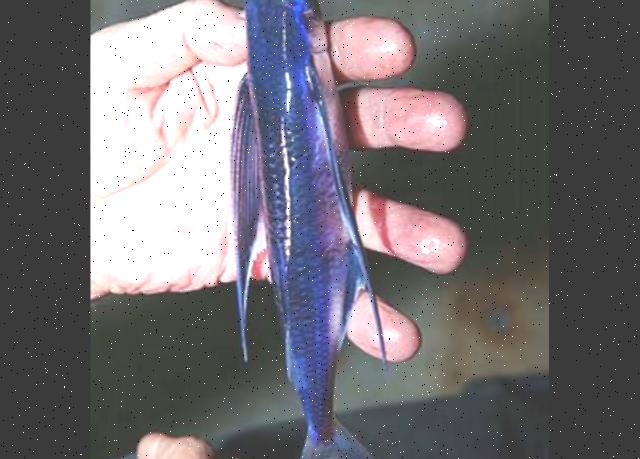Sirip Dada: (306, 45, 400, 392), (218, 64, 274, 369)
Sirip Ekor: (266, 413, 408, 459)
